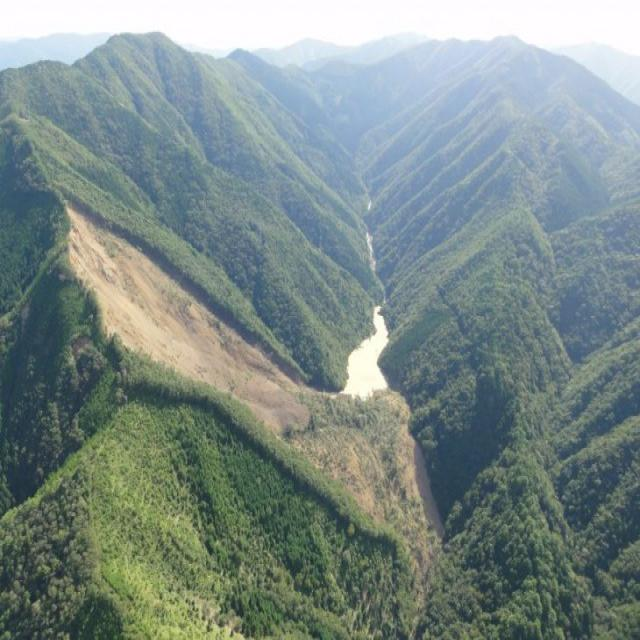Debris-flow: (68, 205, 441, 598), (342, 307, 388, 398)
